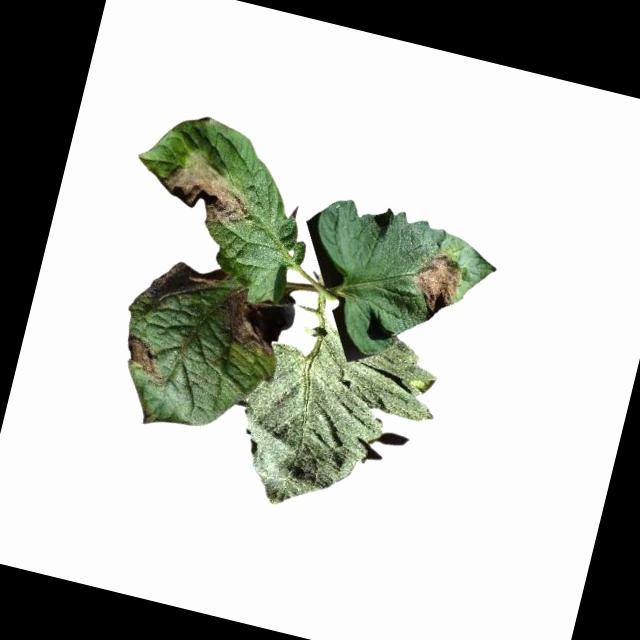Late_blight: (149, 144, 259, 237), (143, 250, 232, 313), (219, 287, 284, 357), (406, 248, 467, 322), (116, 330, 161, 382)
